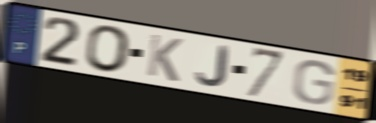2: (38, 16, 82, 70)
7: (245, 45, 287, 99)
G: (290, 59, 337, 106)
J: (194, 44, 230, 89)
K: (144, 32, 185, 85)
O: (85, 23, 133, 74)
